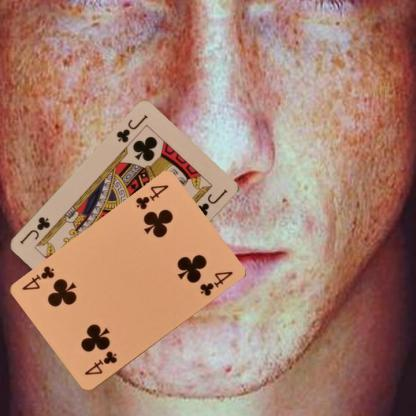4c: (133, 182, 170, 212), (82, 348, 118, 377)
Jc: (113, 112, 150, 145)
